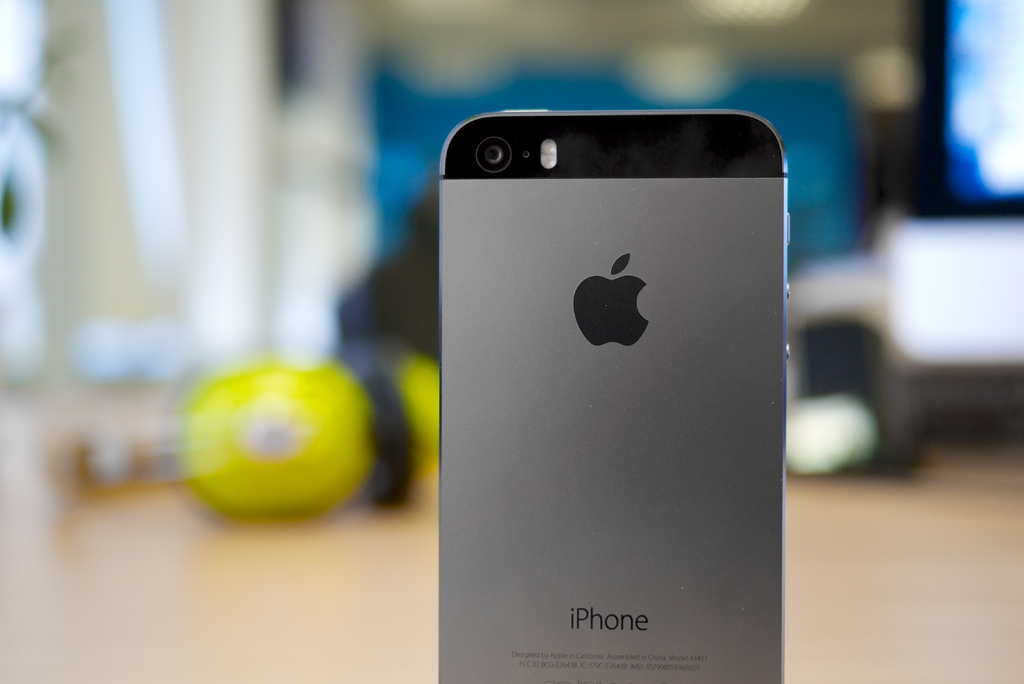Mobile-phone: (436, 112, 784, 684)
